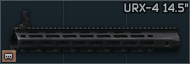AR-10 URX 4 handguard: (0, 0, 190, 64)
